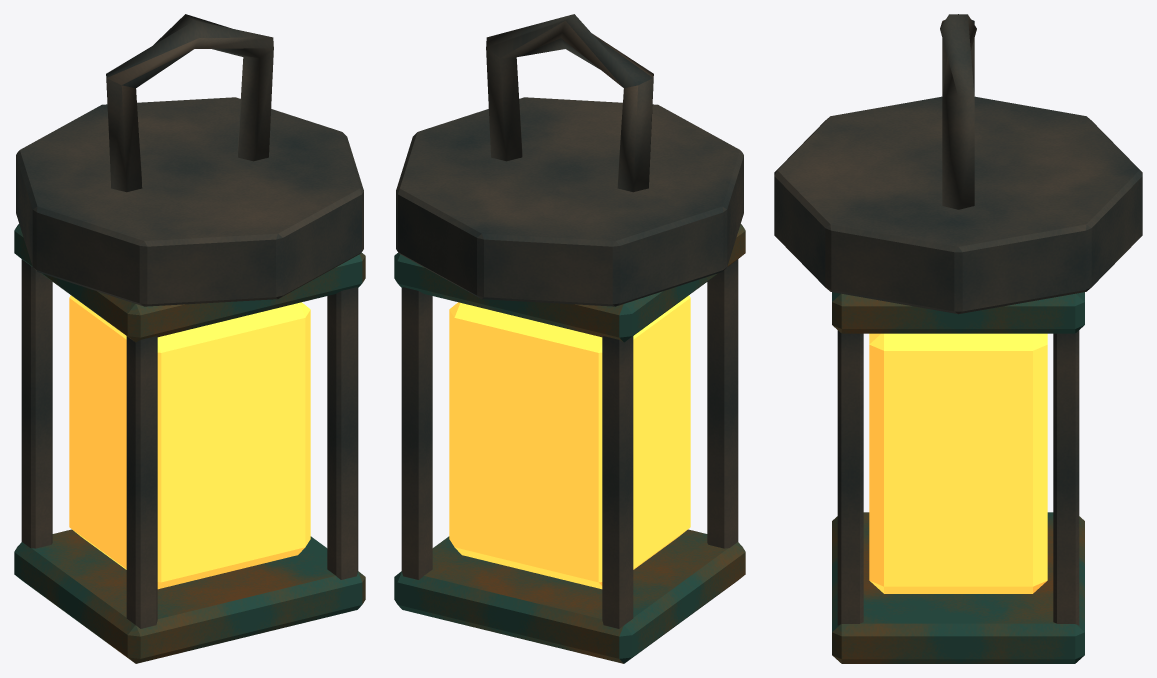
The model's file is lantern-GTSBEa72.glb.
3 views of the same model, side by side, from view 1: azimuth 30°, elevation 25°; view 2: azimuth 150°, elevation 25°; view 3: azimuth 270°, elevation 25° (orthographic). The views are drawn at different scales.
Parts seen in each view (by area): view 1: lantern__LS_iron, lantern__LS_amber_glass, lantern__LS_bronze; view 2: lantern__LS_iron, lantern__LS_amber_glass, lantern__LS_bronze; view 3: lantern__LS_iron, lantern__LS_amber_glass, lantern__LS_bronze.
Boxes of the visible parts, bbox=[...] form: lantern__LS_iron: bbox=[16, 14, 363, 628]; lantern__LS_amber_glass: bbox=[69, 295, 310, 589]; lantern__LS_bronze: bbox=[14, 224, 365, 663]; lantern__LS_iron: bbox=[396, 14, 743, 628]; lantern__LS_amber_glass: bbox=[449, 295, 690, 589]; lantern__LS_bronze: bbox=[394, 224, 745, 663]; lantern__LS_iron: bbox=[774, 14, 1142, 625]; lantern__LS_amber_glass: bbox=[869, 333, 1047, 593]; lantern__LS_bronze: bbox=[832, 292, 1084, 663].
Bounding box in the file's own units: 0.4954 × 0.8817 × 0.4954.
3 materials, 2 textured.
